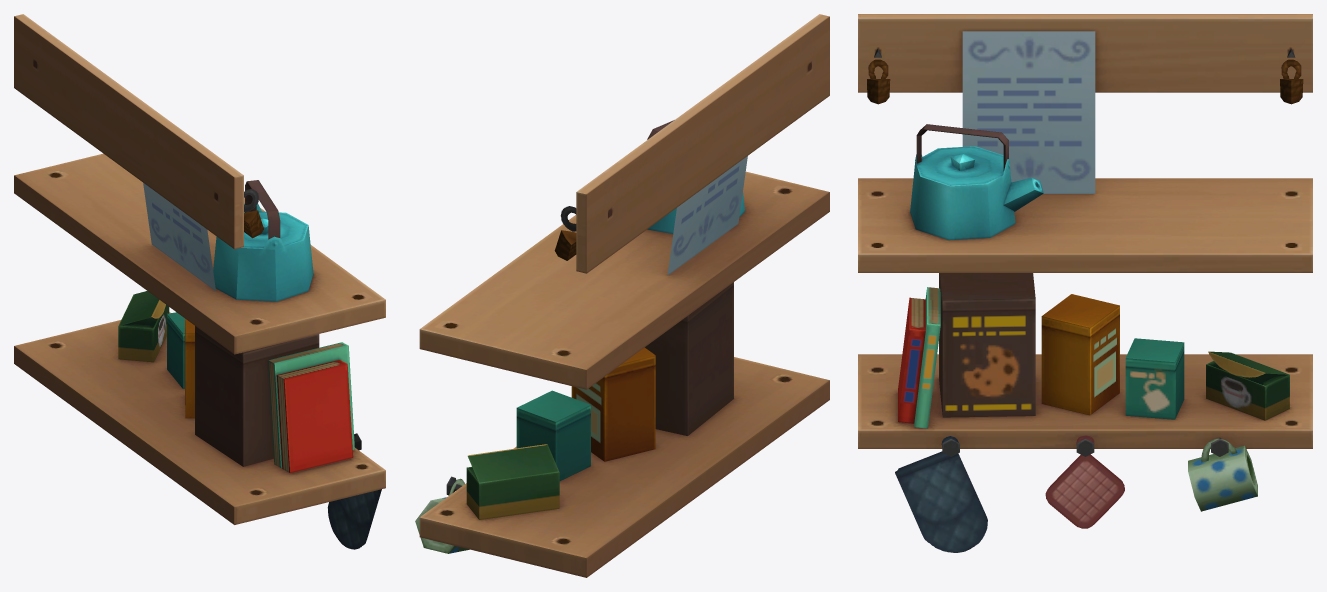
The model's file is OpenShelf.fbx.
The picture shows the model from 3 angles, left to right: view 1: azimuth 30°, elevation 25°; view 2: azimuth 150°, elevation 25°; view 3: azimuth 270°, elevation 25°; orthographic projection. The views are drawn at different scales.
Visible parts, largest first — view 1: TinyLiving_OpenShelf; view 2: TinyLiving_OpenShelf; view 3: TinyLiving_OpenShelf.
Boxes of the visible parts, x1,y1,x2,y2 form: TinyLiving_OpenShelf: (14,14,385,549); TinyLiving_OpenShelf: (415,14,829,577); TinyLiving_OpenShelf: (858,14,1312,552).
Size of the model in its own units: 41.34 by 99.5 by 85.12.
